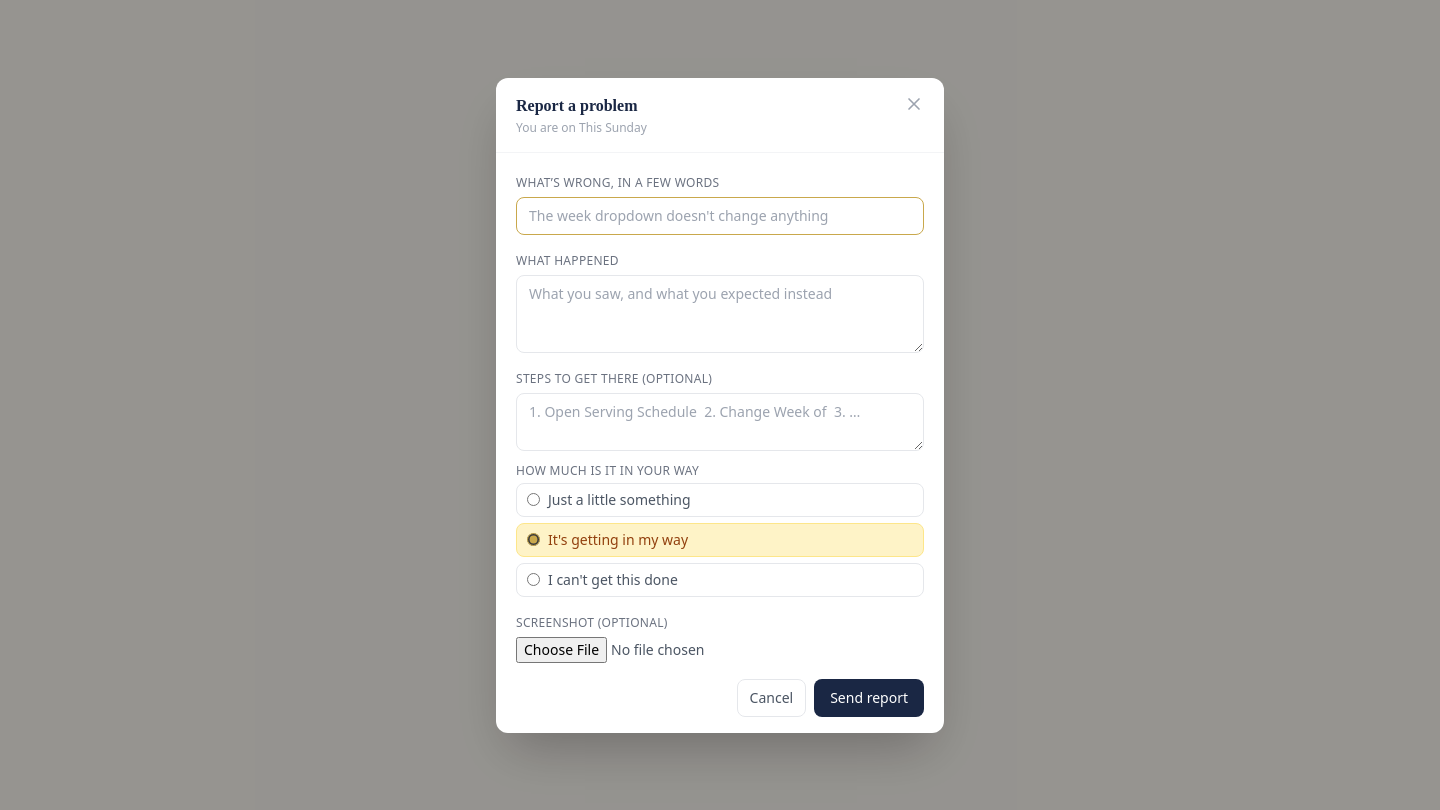
it: BugReportDialog › shows a thank-you once it is filed, with the report number
The width and height of the screenshot is (1440, 810).
In the field with placeholder "The week dropdown doesn't change anything": [720, 216] box [516,196,924,234], type "x"
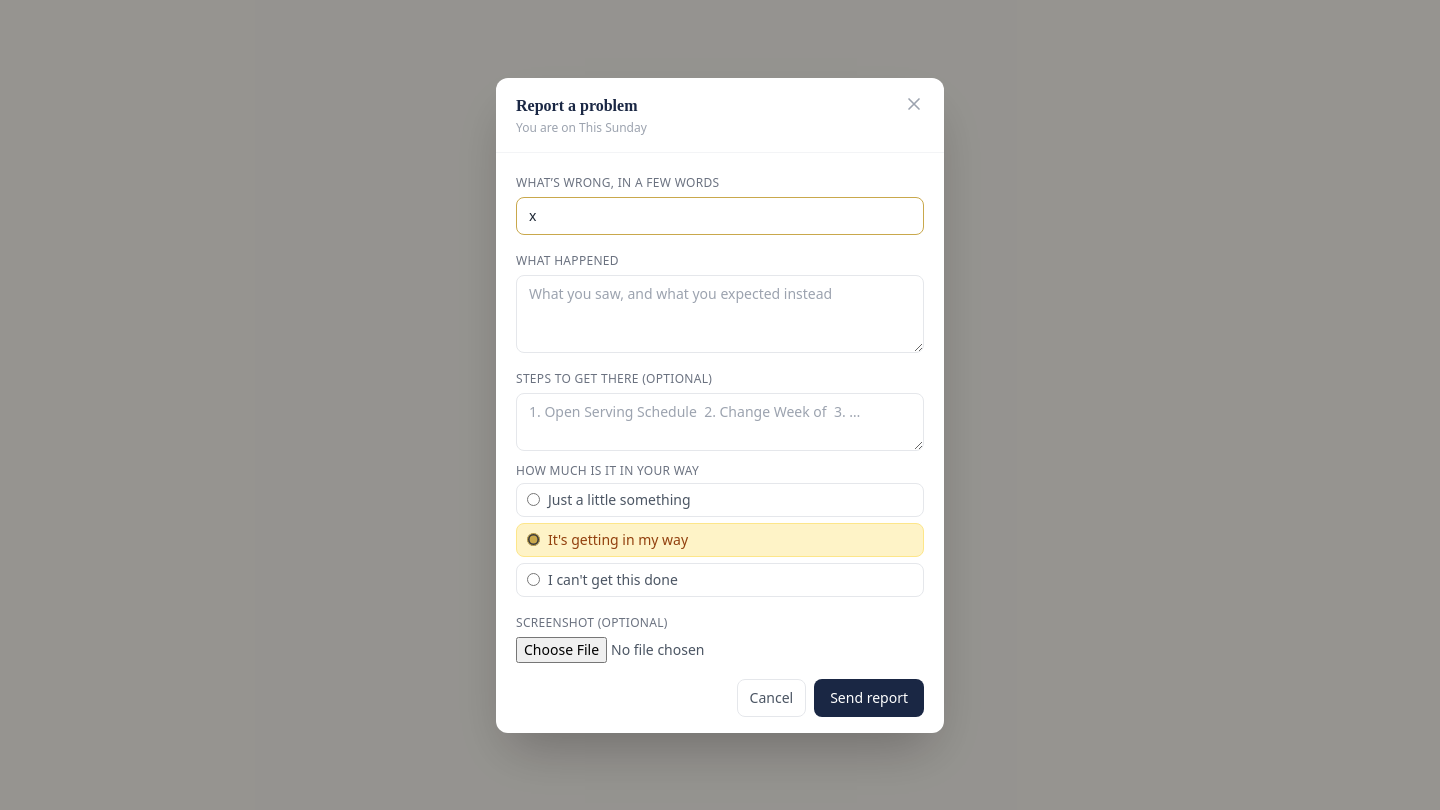
In the text box with placeholder "What you saw, and what you expected instead": [720, 314] box [516,274,924,352], type "y"
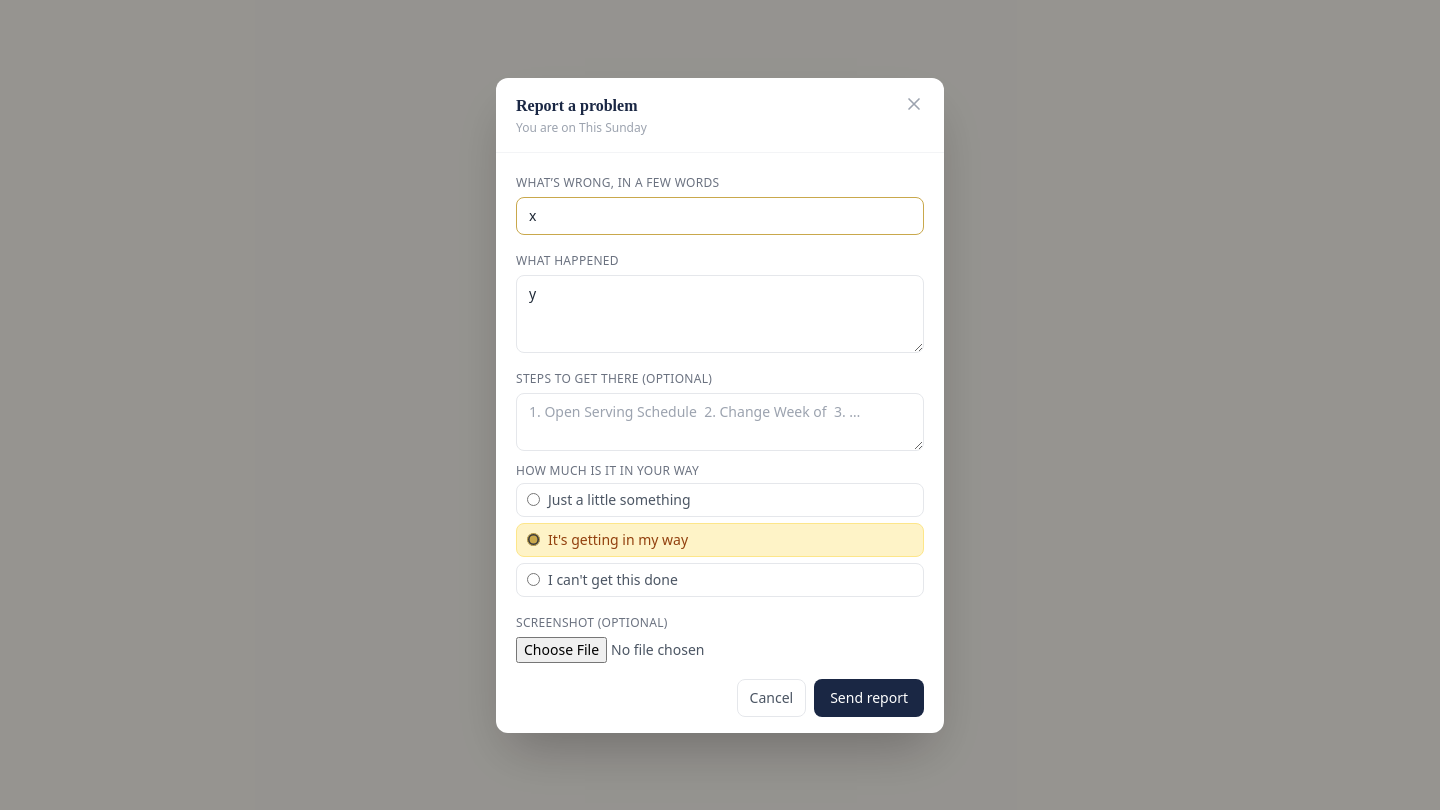
Click the button "Send report": [869, 698] box [814,678,924,716]
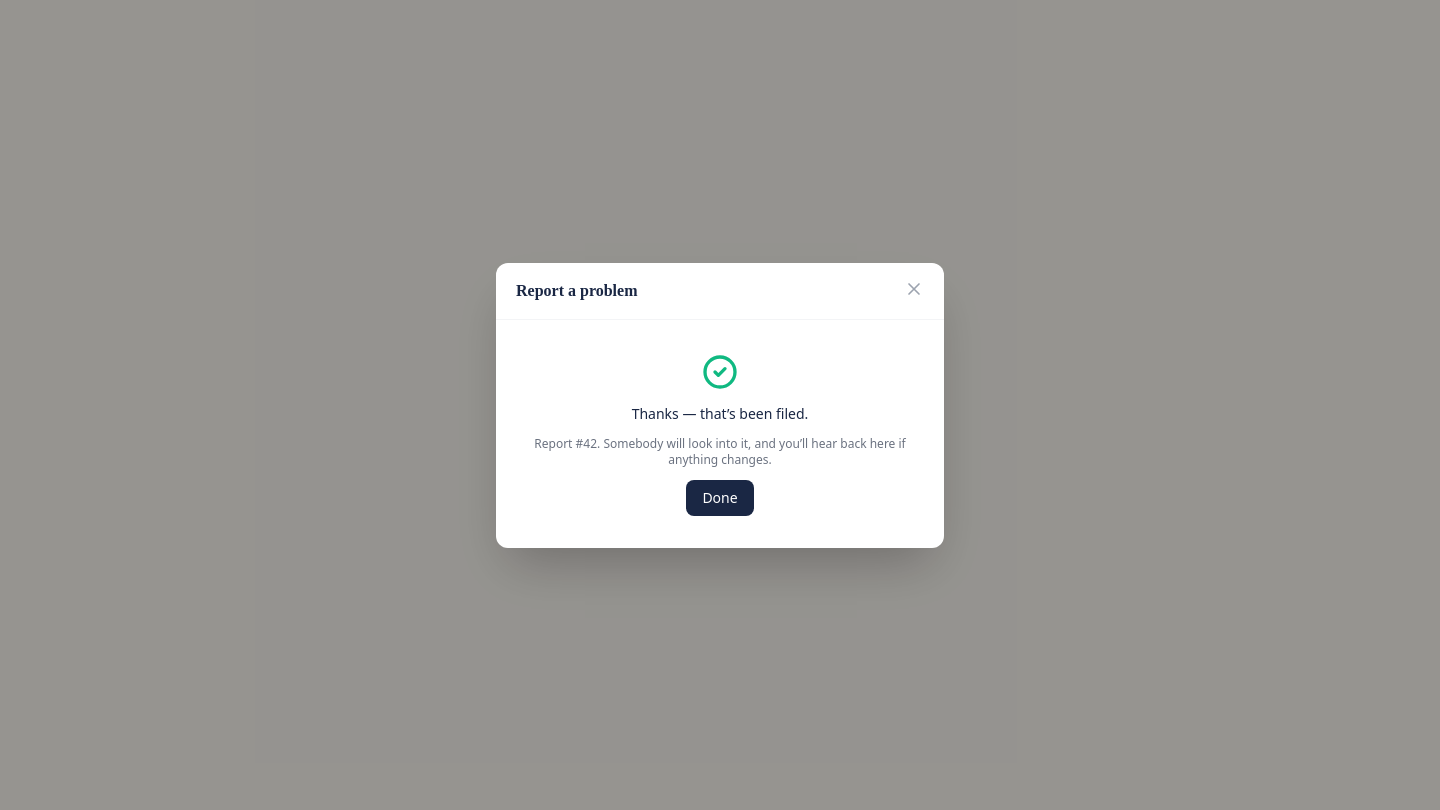
Expected: the text "Report #42" is shown, [516,436,924,468]
Expected: the button "Done" is shown, [686,480,754,516]
